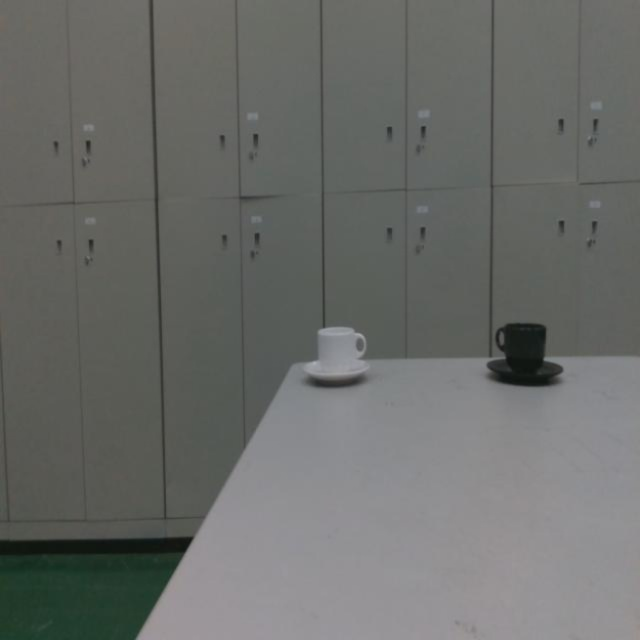black: (483, 311, 567, 393)
white: (299, 318, 371, 391)
